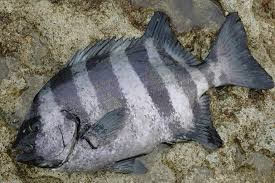azi: (19, 27, 261, 169)
